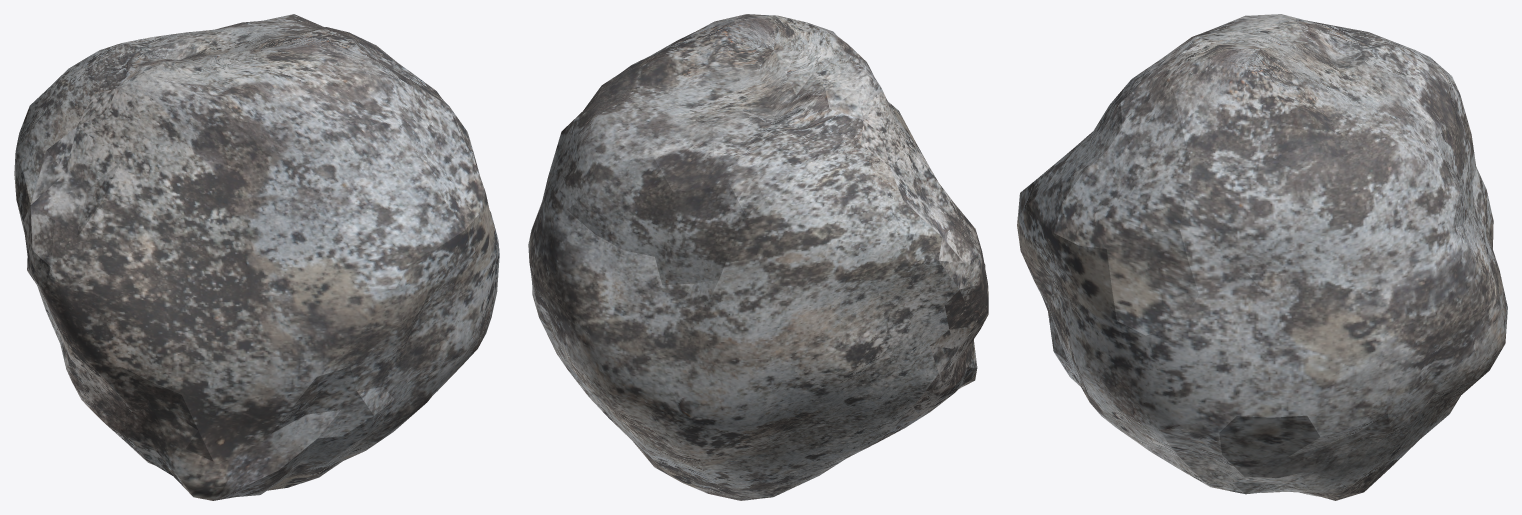
Rendered from Asteroid_Large_002.fbx.
3 views of the same model, side by side, from view 1: azimuth 30°, elevation 25°; view 2: azimuth 150°, elevation 25°; view 3: azimuth 270°, elevation 25° (orthographic). The views are drawn at different scales.
Visible parts, largest first — view 1: Asteroid_Large_002; view 2: Asteroid_Large_002; view 3: Asteroid_Large_002.
Part boxes in pixels (x1,y1,x2,y2): Asteroid_Large_002: [14, 14, 499, 500]; Asteroid_Large_002: [528, 14, 988, 500]; Asteroid_Large_002: [1017, 14, 1507, 500].
Bounding box in the file's own units: 42.86 × 42.84 × 42.96.
1 material, 1 textured.
